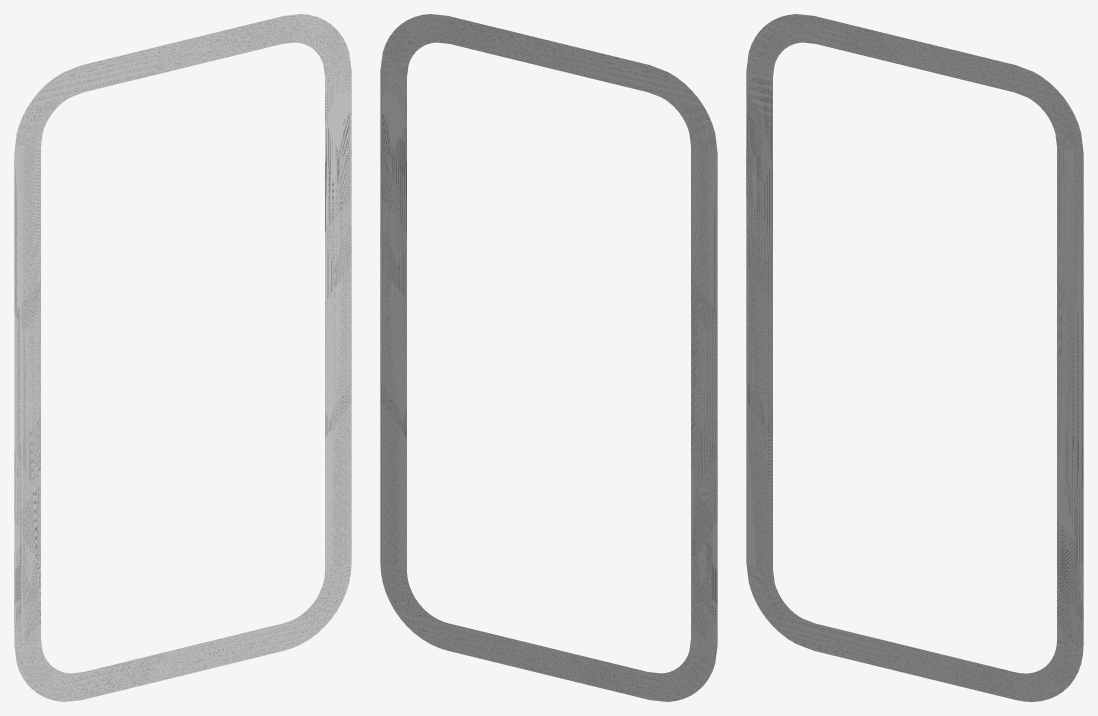
File: original-31.obj
3 renders of one model, left to right at view 1: azimuth 30°, elevation 25°; view 2: azimuth 150°, elevation 25°; view 3: azimuth 330°, elevation 25°, orthographic.
Visible parts, largest first — view 1: 3dw.7bdffa69c49eb1d7bf653fdedcac4c5b#4/Model/mesh9/mesh9-geometr; view 2: 3dw.7bdffa69c49eb1d7bf653fdedcac4c5b#4/Model/mesh9/mesh9-geometr; view 3: 3dw.7bdffa69c49eb1d7bf653fdedcac4c5b#4/Model/mesh9/mesh9-geometr.
Boxes of the visible parts, x1,y1,x2,y2 form: 3dw.7bdffa69c49eb1d7bf653fdedcac4c5b#4/Model/mesh9/mesh9-geometr: [14, 14, 351, 701]; 3dw.7bdffa69c49eb1d7bf653fdedcac4c5b#4/Model/mesh9/mesh9-geometr: [380, 14, 717, 701]; 3dw.7bdffa69c49eb1d7bf653fdedcac4c5b#4/Model/mesh9/mesh9-geometr: [746, 14, 1083, 701].
Bounding box in the file's own units: 0.1087 × 0.1956 × 0.
